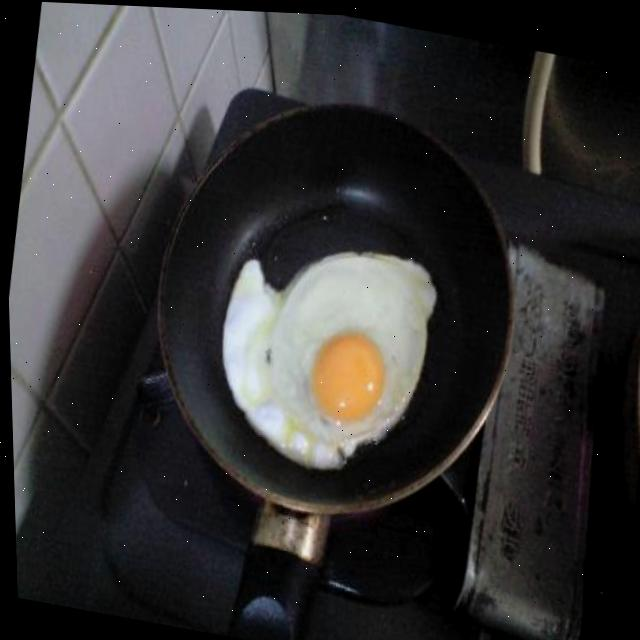鸡蛋料理: (201, 215, 446, 472)
